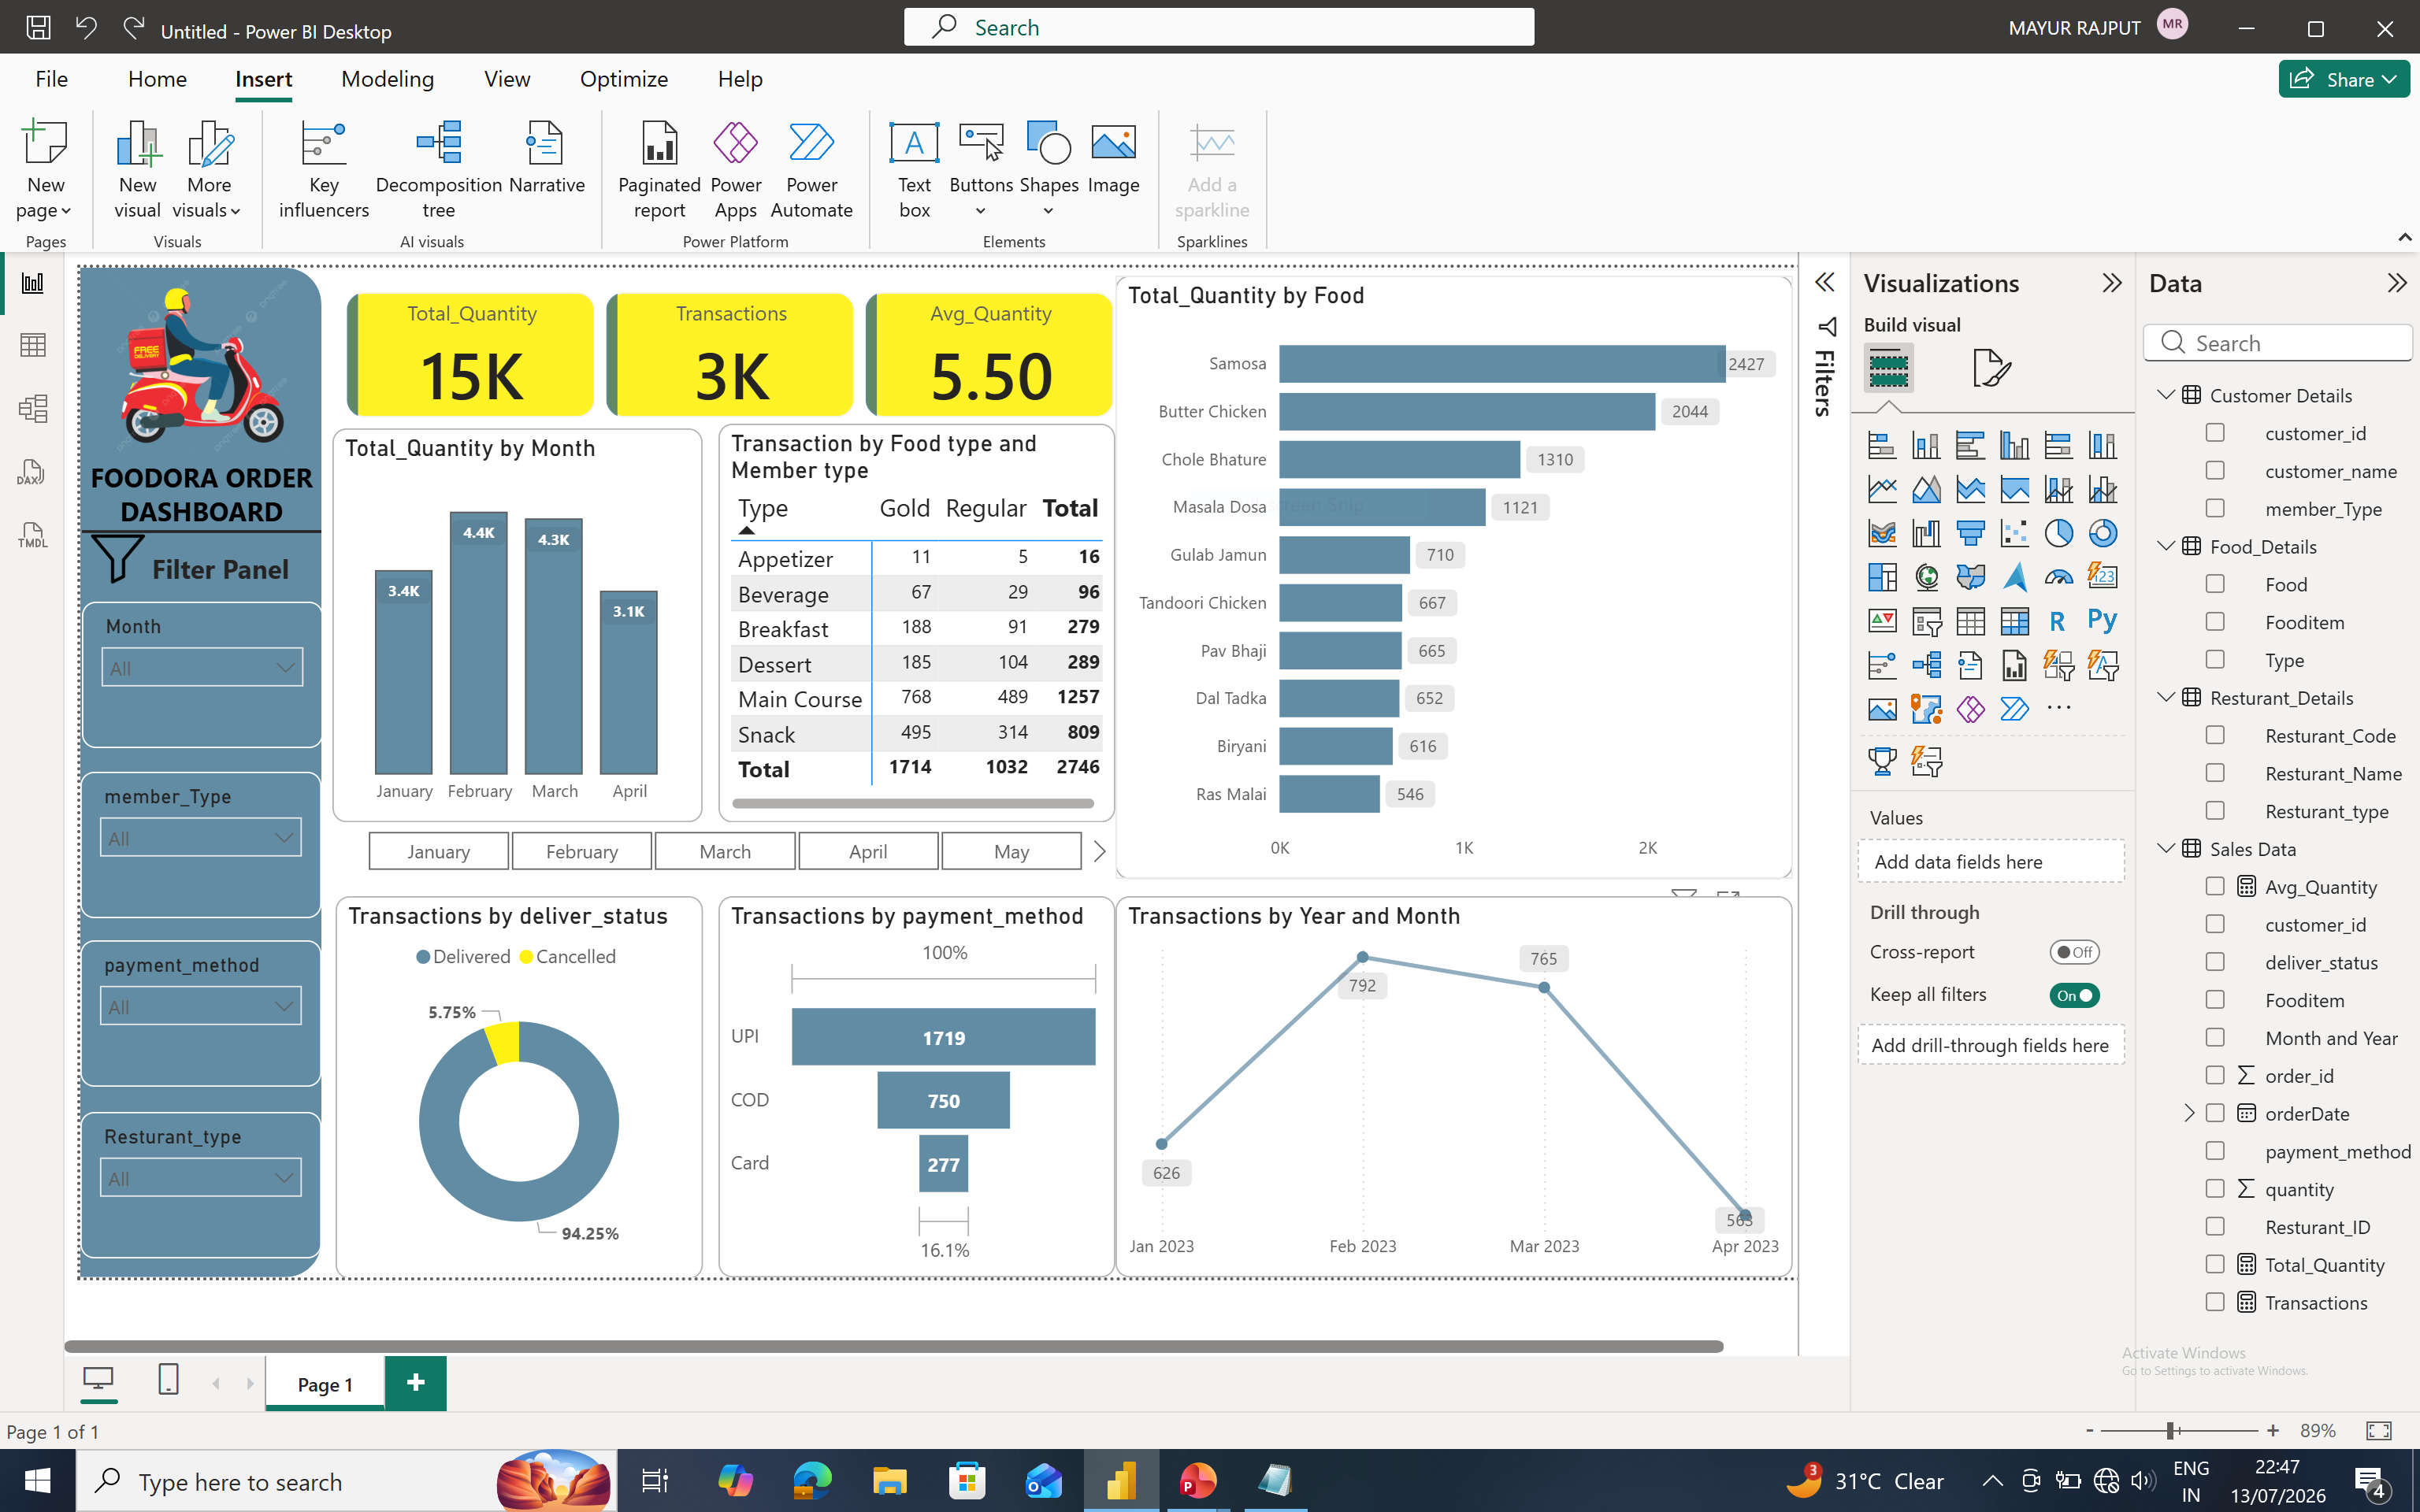

Layout of this report page (visuals, bound fields, positions):
{"tool":"powerbi","page":{"name":"Page 1","canvas":[1280,720],"ordinal":0},"visuals":[{"type":"shape","box":[0,0,171.9,720.2],"z":0},{"type":"image","box":[1.1,0,171.9,139.3],"z":1000},{"type":"textbox","box":[1.1,131.5,170.8,114.6],"z":2000},{"type":"textbox","box":[197.8,150.6,171.9,569.7],"z":3000},{"type":"shape","box":[1.1,150.6,170.8,75.3],"z":4000},{"type":"cardVisual","fields":{"Data":["Sales Data.Total_Quantity","Sales Data.Transactions","Sales Data.Avg_Quantity"]},"box":[173,5.6,583.1,125.8],"z":5000},{"type":"clusteredColumnChart","fields":{"Y":["Sales Data.Total_Quantity"],"Category":["Sales Data.orderDate.Variation.Date Hierarchy.Month"]},"box":[179.8,114.6,264,280.9],"z":6000},{"type":"pivotTable","title":"Transaction by Food type and Member type","fields":{"Rows":["Food_Details.Type"],"Columns":["Customer Details.member_Type"],"Values":["Sales Data.Transactions"]},"box":[455.1,111.2,283.1,284.3],"z":7000},{"type":"donutChart","fields":{"Category":["Sales Data.deliver_status"],"Y":["Sales Data.Transactions"]},"box":[182,448.3,261.8,273],"z":8000},{"type":"funnel","fields":{"Category":["Sales Data.payment_method"],"Y":["Sales Data.Transactions"]},"box":[455,448,283,272],"z":9000},{"type":"clusteredBarChart","fields":{"Category":["Food_Details.Food"],"Y":["Sales Data.Total_Quantity"]},"box":[738.2,5.6,483.1,430.3],"z":10000},{"type":"lineChart","fields":{"Y":["Sales Data.Transactions"],"Category":["Sales Data.orderDate.Variation.Date Hierarchy.Year","Sales Data.orderDate.Variation.Date Hierarchy.Month"]},"box":[738.2,448.3,483.1,271.9],"z":11000},{"type":"slicer","fields":{"Values":["Sales Data.orderDate.Variation.Date Hierarchy.Month"]},"box":[1.1,238.2,171.9,104.5],"z":12000},{"type":"slicer","fields":{"Values":["Customer Details.member_Type"]},"box":[0,359.6,171.9,104.5],"z":13000},{"type":"slicer","fields":{"Values":["Sales Data.payment_method"]},"box":[0,479.8,171.9,104.5],"z":14000},{"type":"slicer","fields":{"Values":["Resturant_Details.Resturant_type"]},"box":[0,602.2,171.9,104.5],"z":15000},{"type":"slicer","fields":{"Values":["Sales Data.orderDate.Variation.Date Hierarchy.Month"]},"box":[179.8,395.5,558.4,40.4],"z":16000},{"type":"image","box":[1.1,188.8,51.7,38.2],"z":17000},{"type":"textbox","box":[46.1,196.6,251.7,41.6],"z":18000}]}

Visuals, with their boxes on the page's 1280x720 design canvas (x1, y1, x2, y2). These are canvas units, not pixel positions in the 2420x1512 screenshot, which may show the page scaled, cropped or inside an application window:
shape: bbox=(0, 0, 172, 720)
image: bbox=(1, 0, 173, 139)
textbox: bbox=(1, 132, 172, 246)
textbox: bbox=(198, 151, 370, 720)
shape: bbox=(1, 151, 172, 226)
cardVisual - Sales Data.Total_Quantity x Sales Data.Transactions: bbox=(173, 6, 756, 131)
clusteredColumnChart - Sales Data.Total_Quantity x Sales Data.orderDate.Variation.Date Hierarchy.Month: bbox=(180, 115, 444, 396)
"Transaction by Food type and Member type" pivotTable: bbox=(455, 111, 738, 396)
donutChart - Sales Data.deliver_status x Sales Data.Transactions: bbox=(182, 448, 444, 721)
funnel - Sales Data.payment_method x Sales Data.Transactions: bbox=(455, 448, 738, 720)
clusteredBarChart - Food_Details.Food x Sales Data.Total_Quantity: bbox=(738, 6, 1221, 436)
lineChart - Sales Data.Transactions x Sales Data.orderDate.Variation.Date Hierarchy.Year: bbox=(738, 448, 1221, 720)
slicer - Sales Data.orderDate.Variation.Date Hierarchy.Month: bbox=(1, 238, 173, 343)
slicer - Customer Details.member_Type: bbox=(0, 360, 172, 464)
slicer - Sales Data.payment_method: bbox=(0, 480, 172, 584)
slicer - Resturant_Details.Resturant_type: bbox=(0, 602, 172, 707)
slicer - Sales Data.orderDate.Variation.Date Hierarchy.Month: bbox=(180, 396, 738, 436)
image: bbox=(1, 189, 53, 227)
textbox: bbox=(46, 197, 298, 238)
